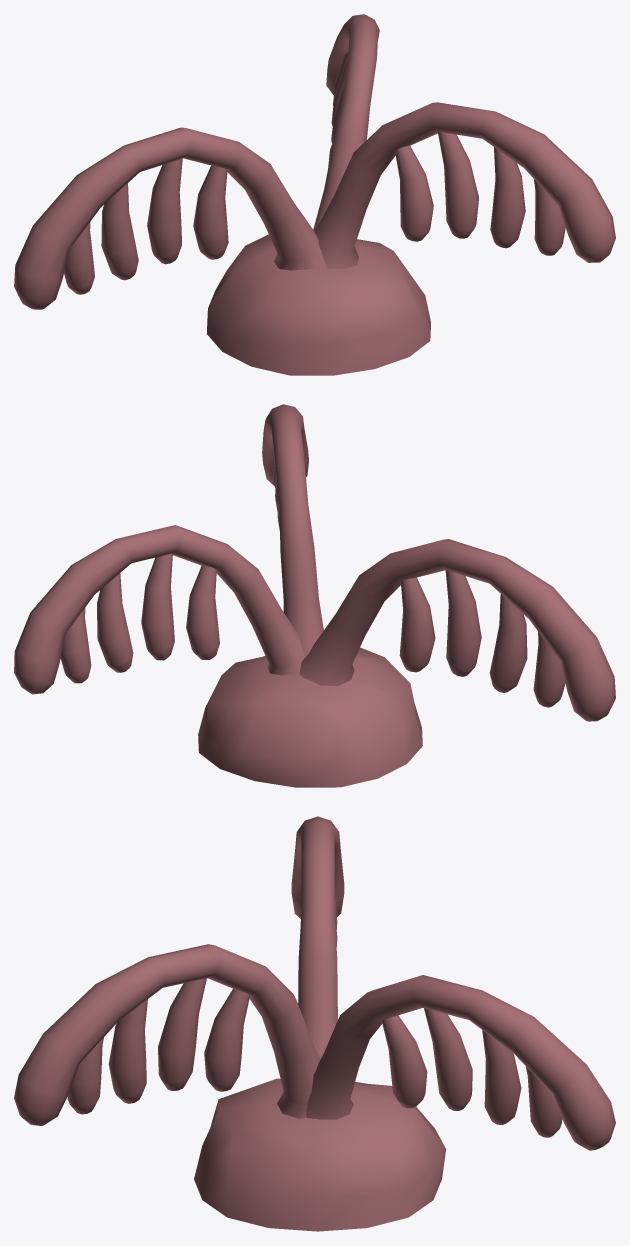
Rendered from rockyPlant_stage4.fbx.
3 views of the same model, one above another, from view 1: azimuth 30°, elevation 25°; view 2: azimuth 150°, elevation 25°; view 3: azimuth 270°, elevation 25° (orthographic). The views are drawn at different scales.
Visible parts, largest first — view 1: rotten_rockyStem1 (×3), rotten_rockyFruit, rotten_rockyLeaf2 (×2), rotten_rockyLeaf1 (×2), rotten_rockyLeaf3 (×2), rotten_rockyLeaf4 (×2); view 2: rotten_rockyStem1 (×3), rotten_rockyFruit, rotten_rockyLeaf2 (×2), rotten_rockyLeaf3 (×2), rotten_rockyLeaf1 (×2), rotten_rockyLeaf4 (×2); view 3: rotten_rockyStem1 (×3), rotten_rockyFruit, rotten_rockyLeaf2 (×2), rotten_rockyLeaf1 (×2), rotten_rockyLeaf3 (×2), rotten_rockyLeaf4 (×2).
Part boxes in pixels (<box>): rotten_rockyStem1 (×3): <box>14,14,615,309</box>; rotten_rockyFruit: <box>206,234,430,375</box>; rotten_rockyLeaf2 (×2): <box>147,131,478,264</box>; rotten_rockyLeaf1 (×2): <box>193,146,433,259</box>; rotten_rockyLeaf3 (×2): <box>101,147,525,280</box>; rotten_rockyLeaf4 (×2): <box>64,179,565,294</box>; rotten_rockyStem1 (×3): <box>14,404,615,721</box>; rotten_rockyFruit: <box>198,647,422,787</box>; rotten_rockyLeaf2 (×2): <box>141,553,481,676</box>; rotten_rockyLeaf3 (×2): <box>97,573,527,692</box>; rotten_rockyLeaf1 (×2): <box>186,566,435,672</box>; rotten_rockyLeaf4 (×2): <box>60,608,565,707</box>; rotten_rockyStem1 (×3): <box>14,816,615,1150</box>; rotten_rockyFruit: <box>194,1078,446,1231</box>; rotten_rockyLeaf2 (×2): <box>158,978,472,1110</box>; rotten_rockyLeaf1 (×2): <box>204,989,427,1108</box>; rotten_rockyLeaf3 (×2): <box>108,999,521,1125</box>; rotten_rockyLeaf4 (×2): <box>67,1037,562,1137</box>.
Size of the model in its own units: 69.98 by 34.82 by 69.2.
